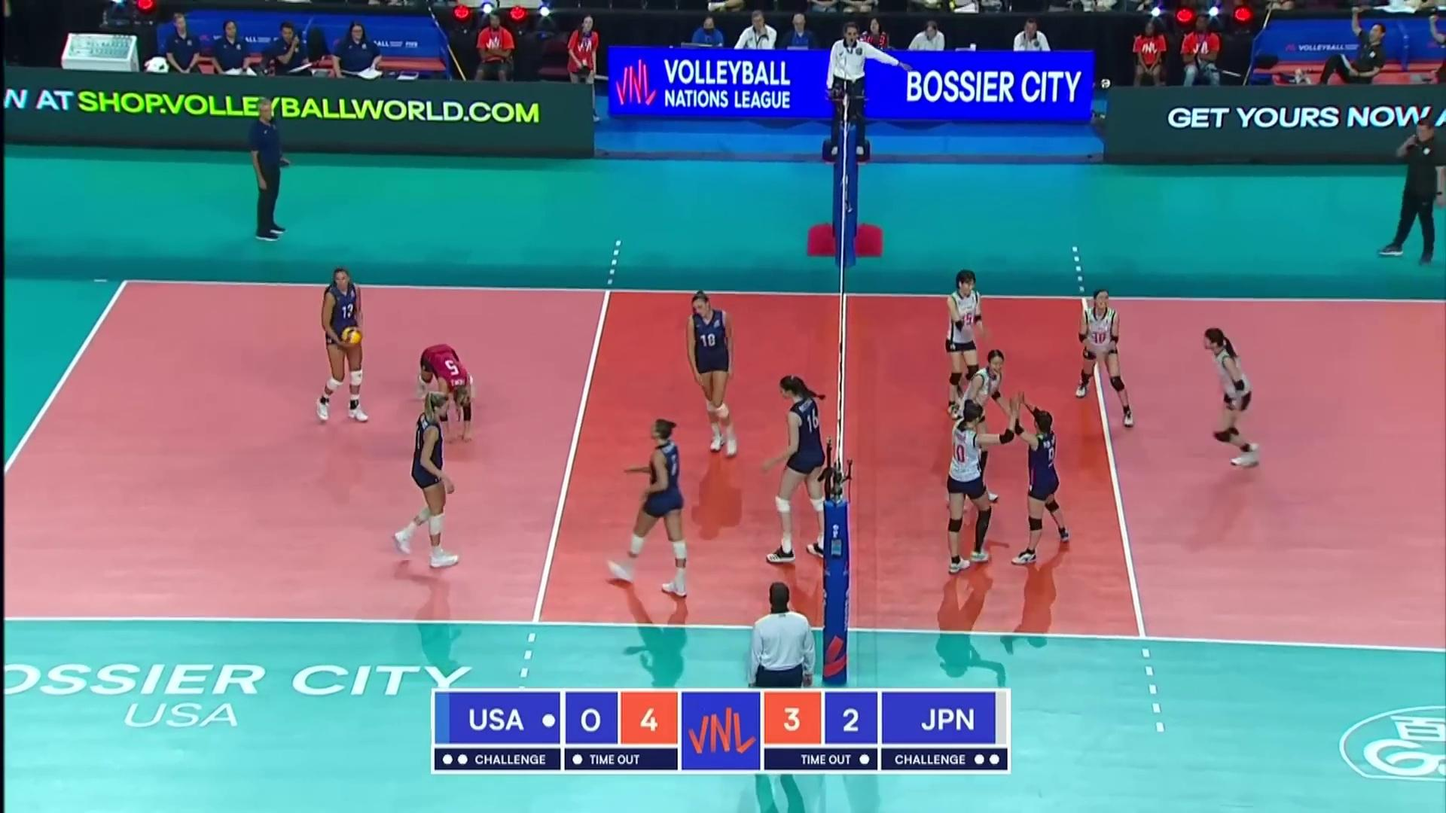player: (759, 374, 837, 566), (608, 419, 689, 599), (946, 348, 1025, 508), (396, 390, 463, 570), (1009, 394, 1078, 568), (313, 268, 376, 428), (944, 399, 1001, 569), (1197, 331, 1262, 471), (684, 292, 738, 458), (1075, 289, 1137, 429), (413, 341, 485, 444), (942, 268, 990, 422)
refree: (751, 587, 815, 771), (825, 22, 888, 157)
